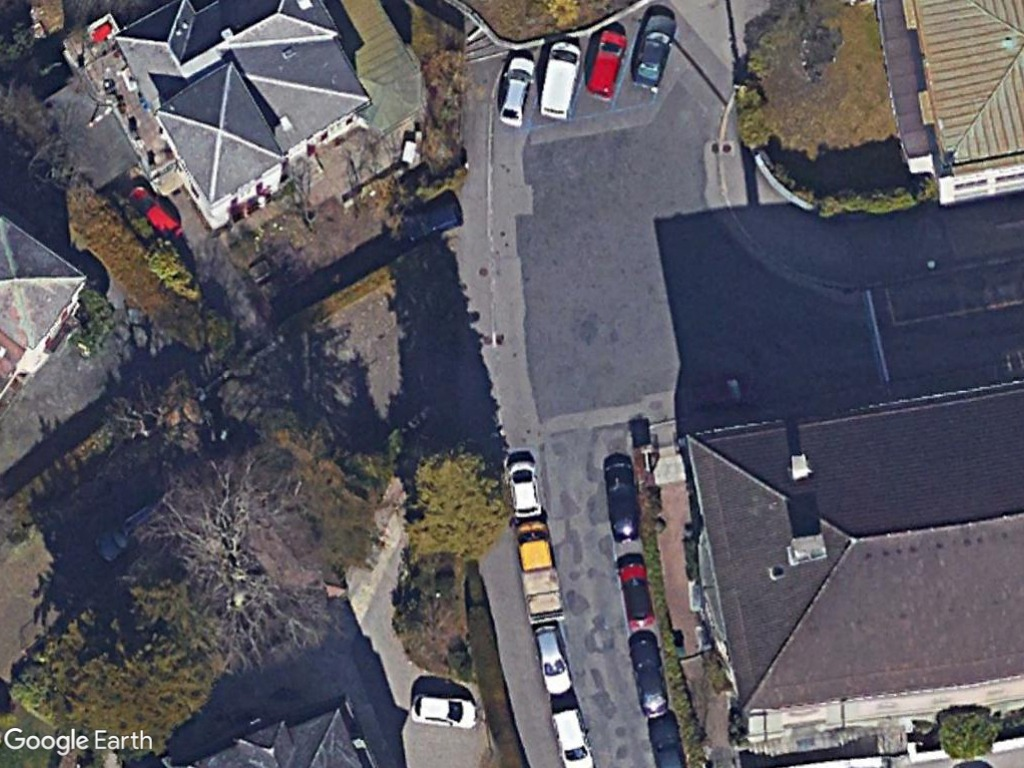car: (629, 10, 679, 94), (585, 25, 629, 101), (408, 691, 480, 732), (497, 52, 535, 129), (533, 624, 573, 696), (549, 708, 595, 768), (618, 558, 655, 630), (506, 457, 545, 519)
van: (537, 36, 586, 122)
